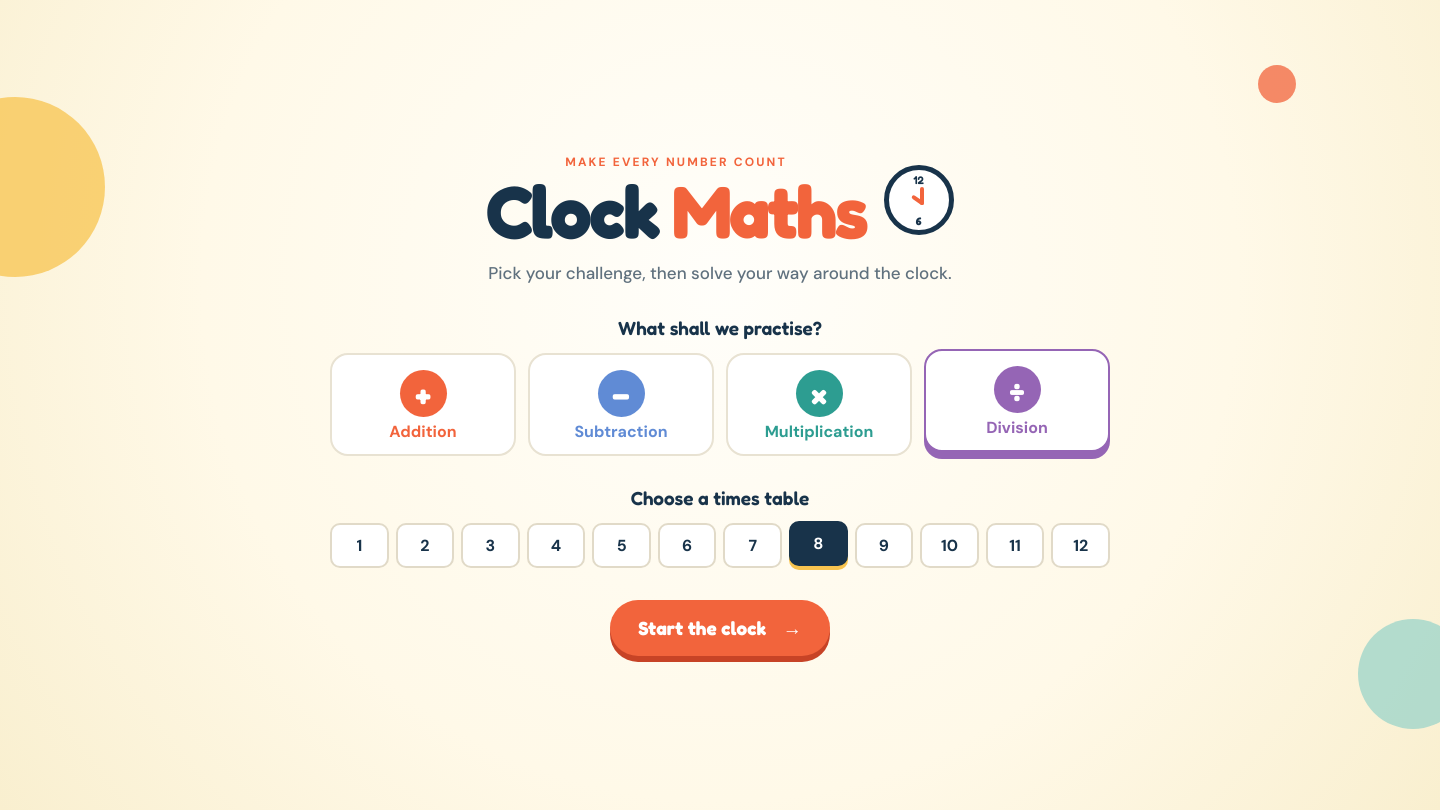
it: Clock Maths › shows wrong and correct feedback and counts guesses
The image size is (1440, 810).
Click the radio button labelled "× Multiplication": (819,404) [726,353,912,456]
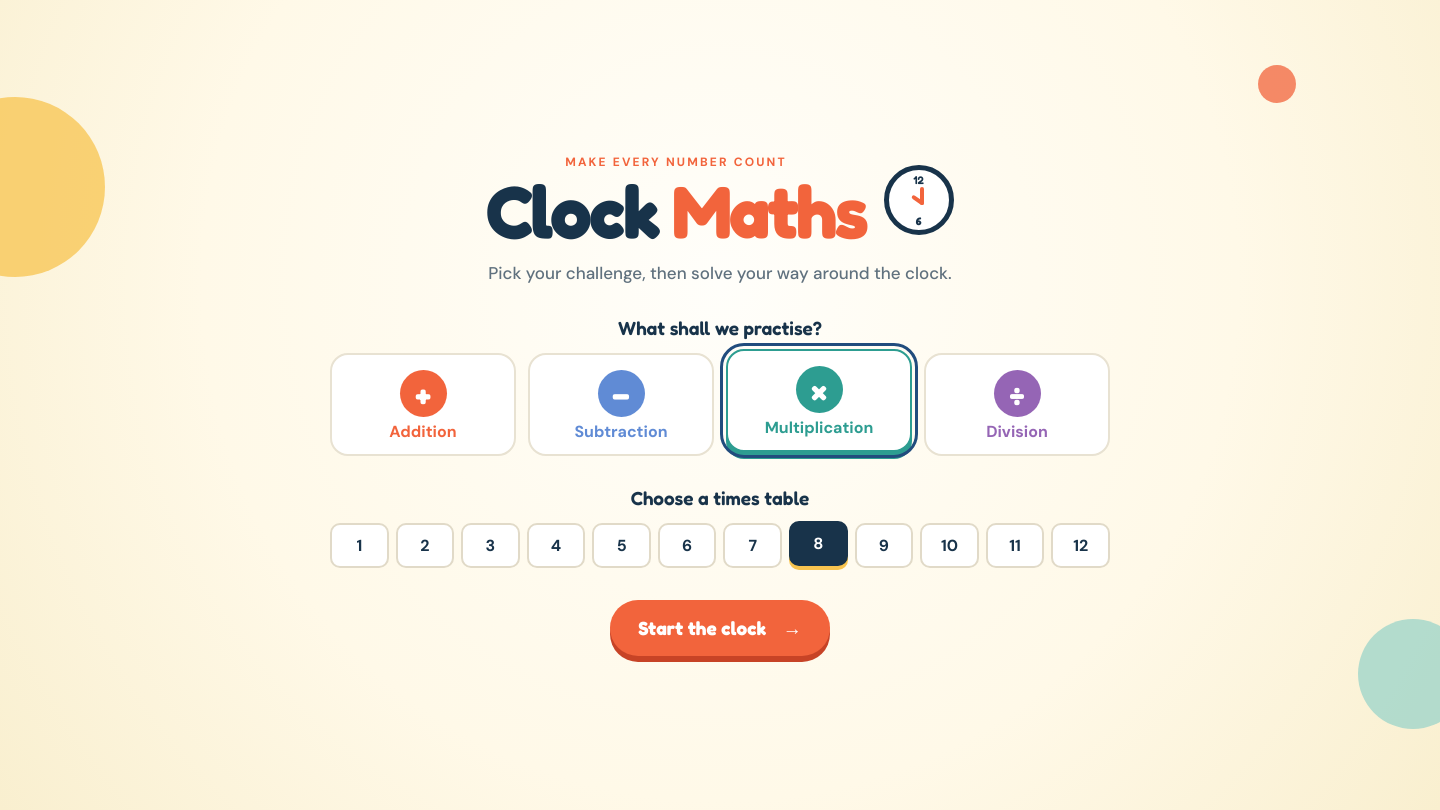
Click the button "4": (556,545) [527,523,585,568]
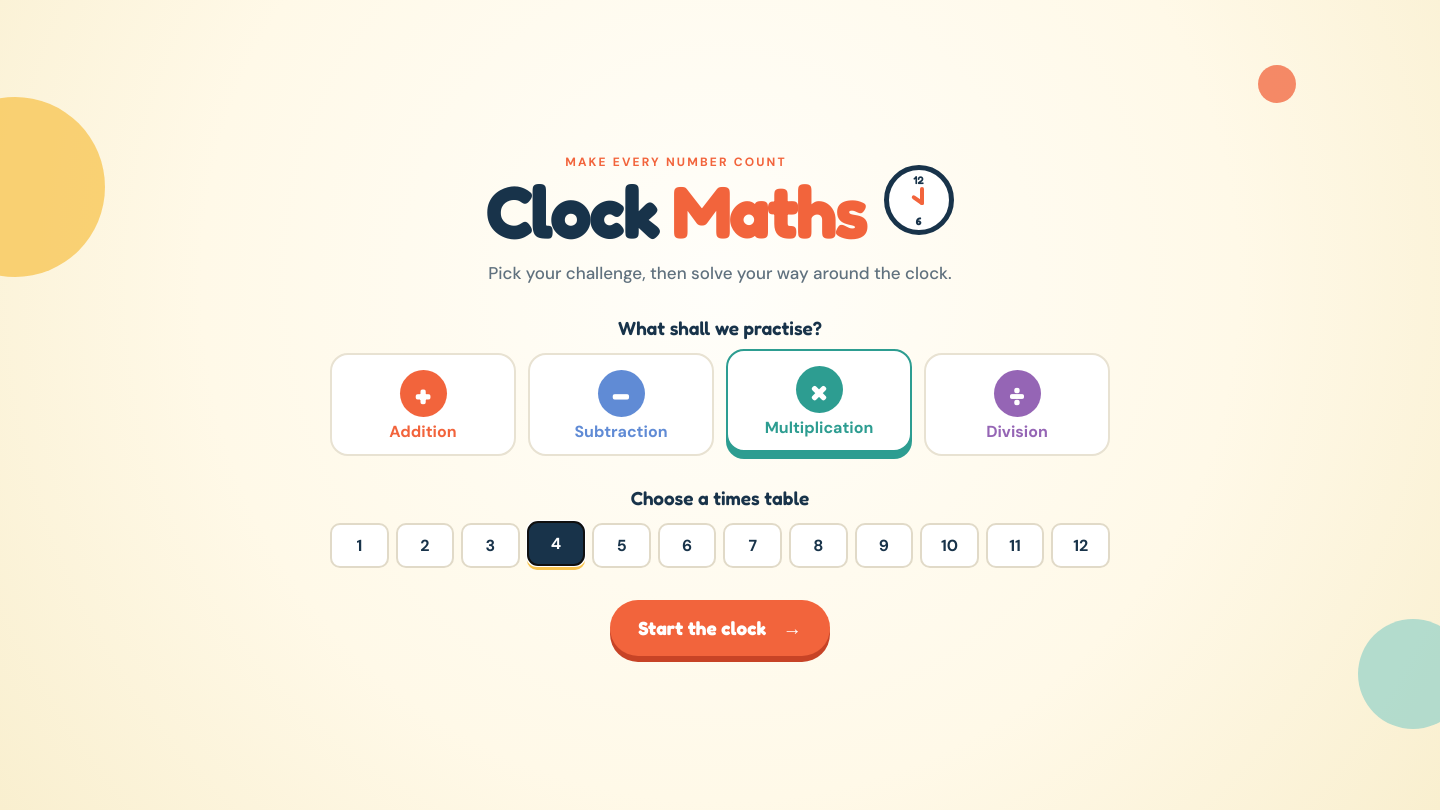
Click the button "Start the clock →": (720,628) [610,600,830,656]
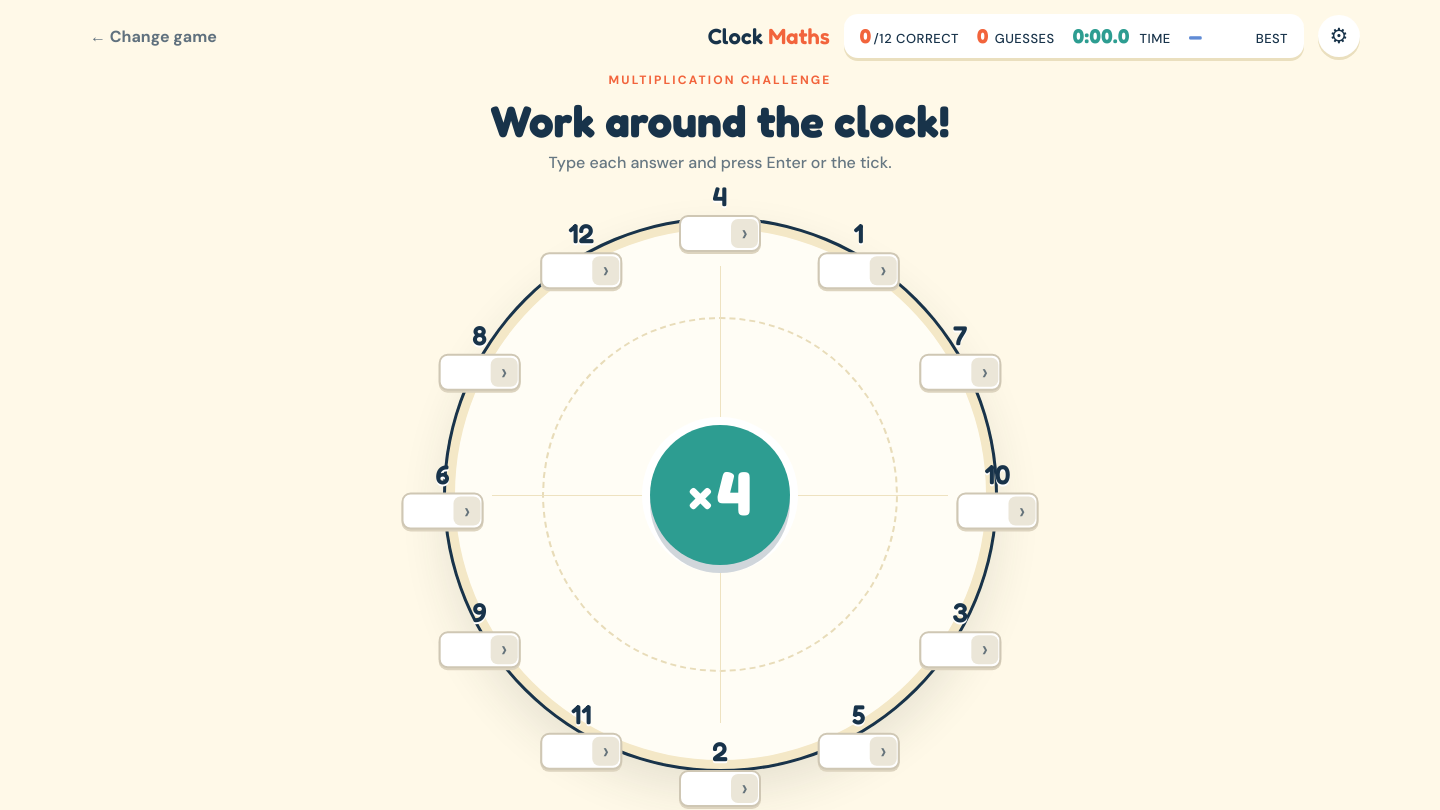
In the field labelled "4": (720,233) [679,214,761,252], type "999"
Then press Enter
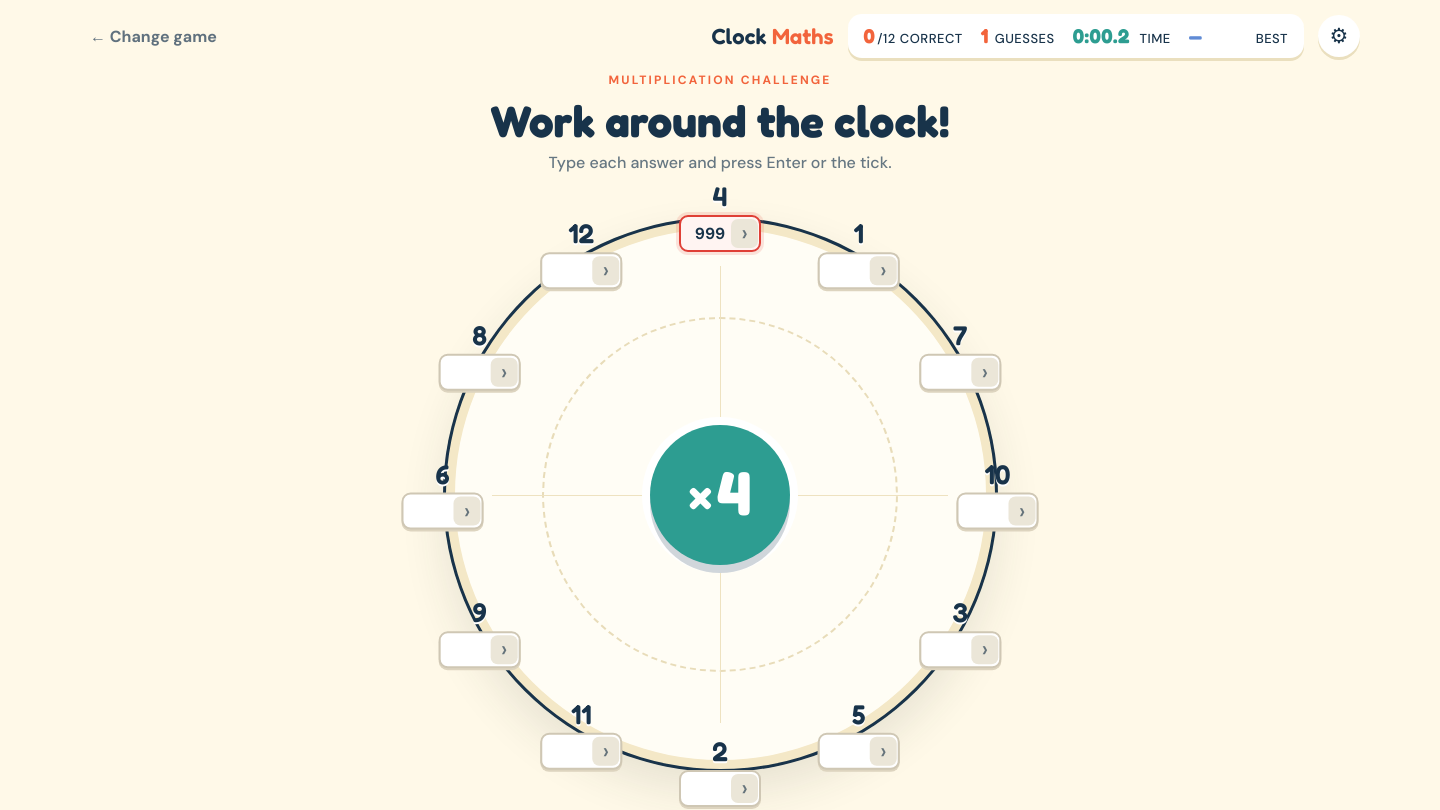
Result: the element named "correct from 12" shows "1 guesses" at [848,14,1304,58]
Replace the text in the field labelled "4" with "16": (720,233) [679,214,761,252]
Then press Enter
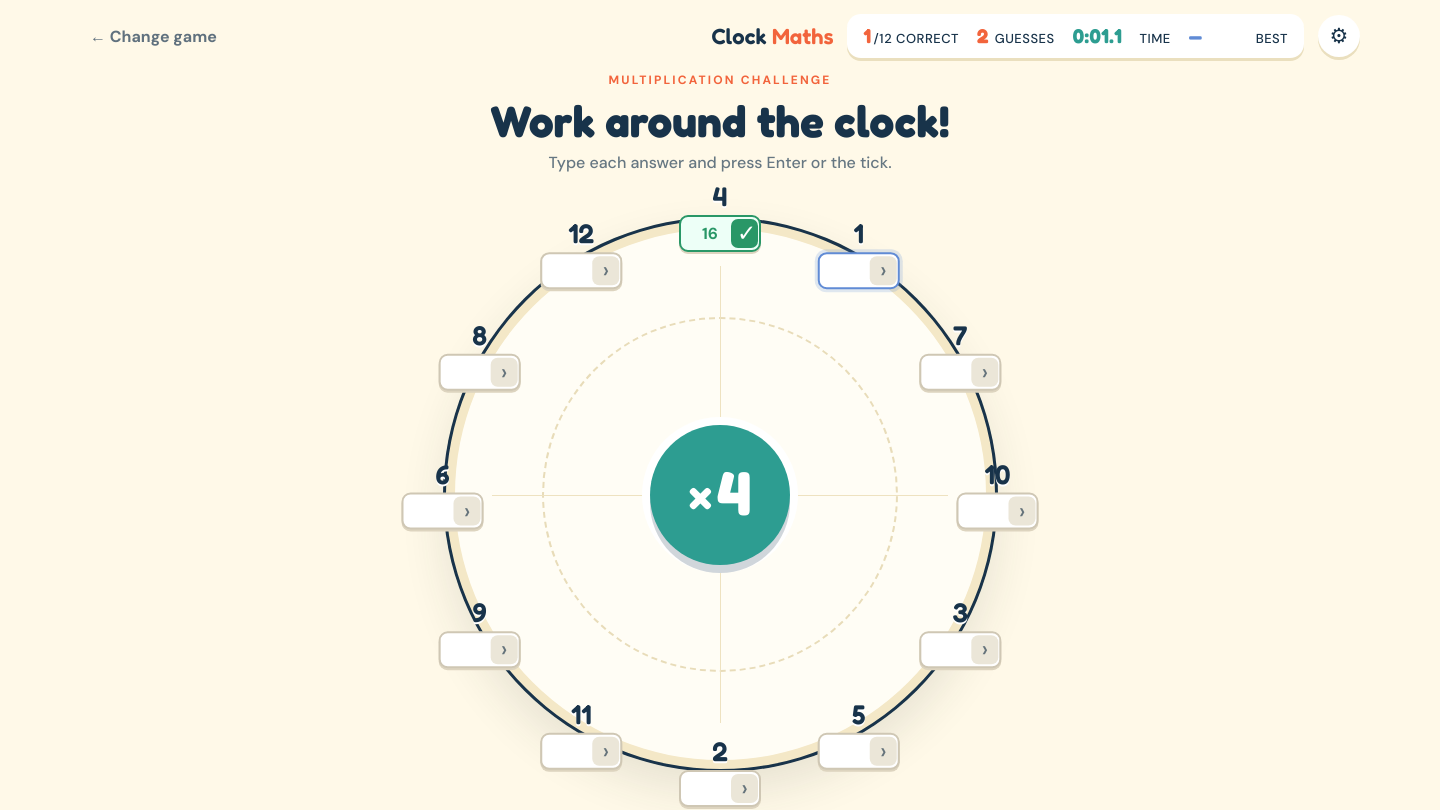
Result: the field labelled "4" is disabled at [679,214,761,252]
Result: the element named "correct from 12" shows "1/12 correct" at [848,14,1304,58]
Result: the element named "correct from 12" shows "2 guesses" at [848,14,1304,58]
